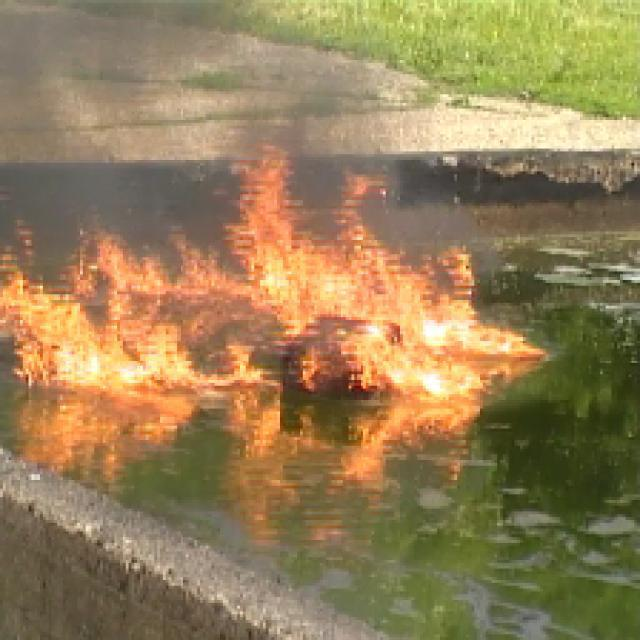Fire: (0, 128, 549, 442)
